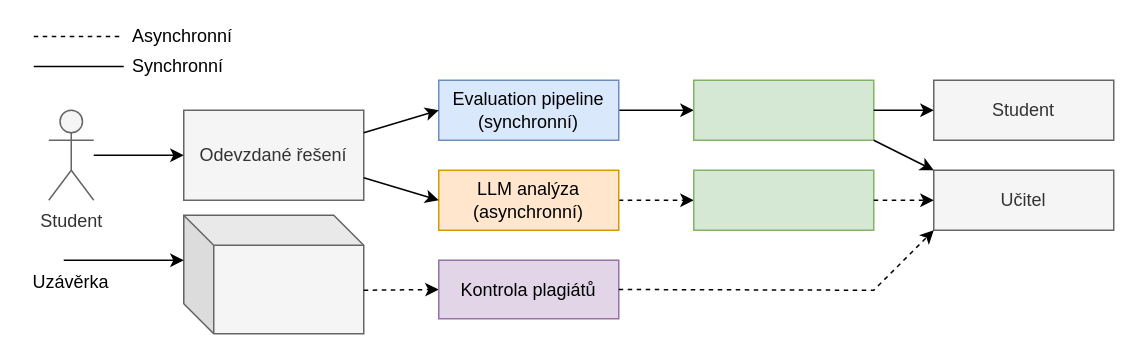
Some shapes in this 1140 by 360 pixel diagram are drawn without their labels. The centre of each missing label's shape, as x and y in pixels:
Navržené komentáře: (783,199)
Výsledky testů: (783,109)
Všechny odevzdání: (273,274)
